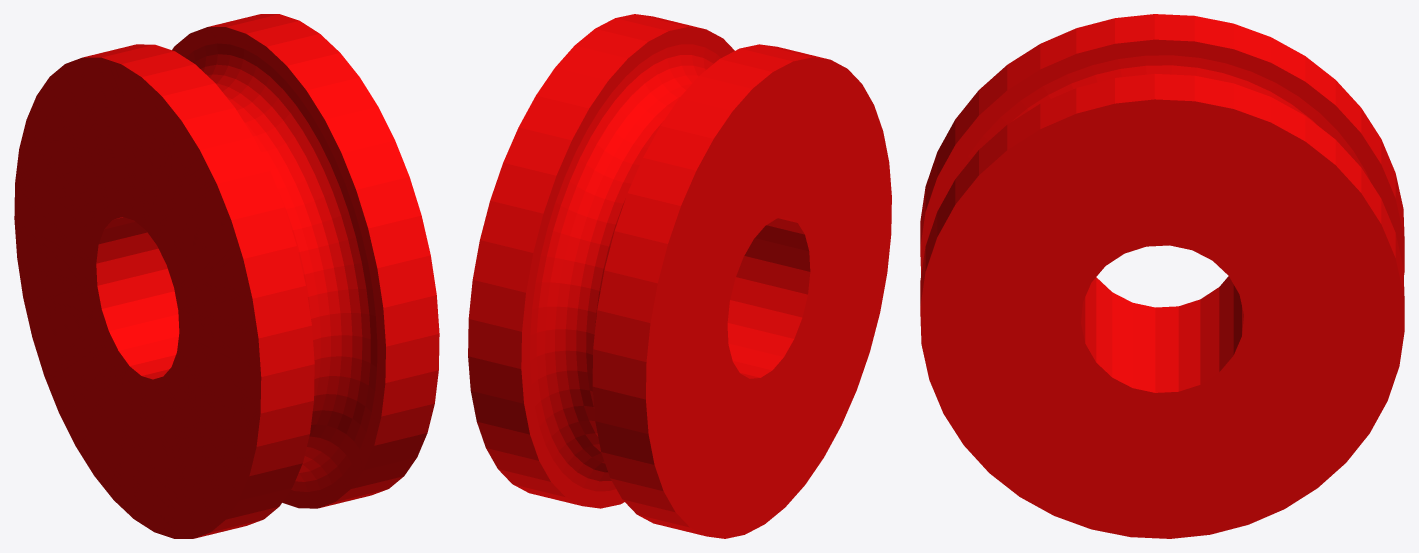
The model's file is power_cart_wl2_visuals_wl2_mesh.obj.
3 views of the same model, side by side, from view 1: azimuth 30°, elevation 25°; view 2: azimuth 150°, elevation 25°; view 3: azimuth 270°, elevation 25° (orthographic).
Bounding box in the file's own units: 0.5 × 1.2 × 1.2.
